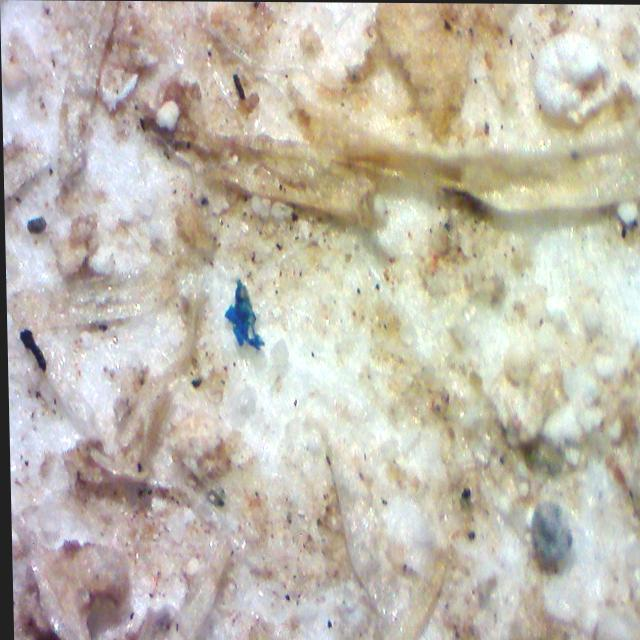microplastic: (223, 279, 263, 351)
